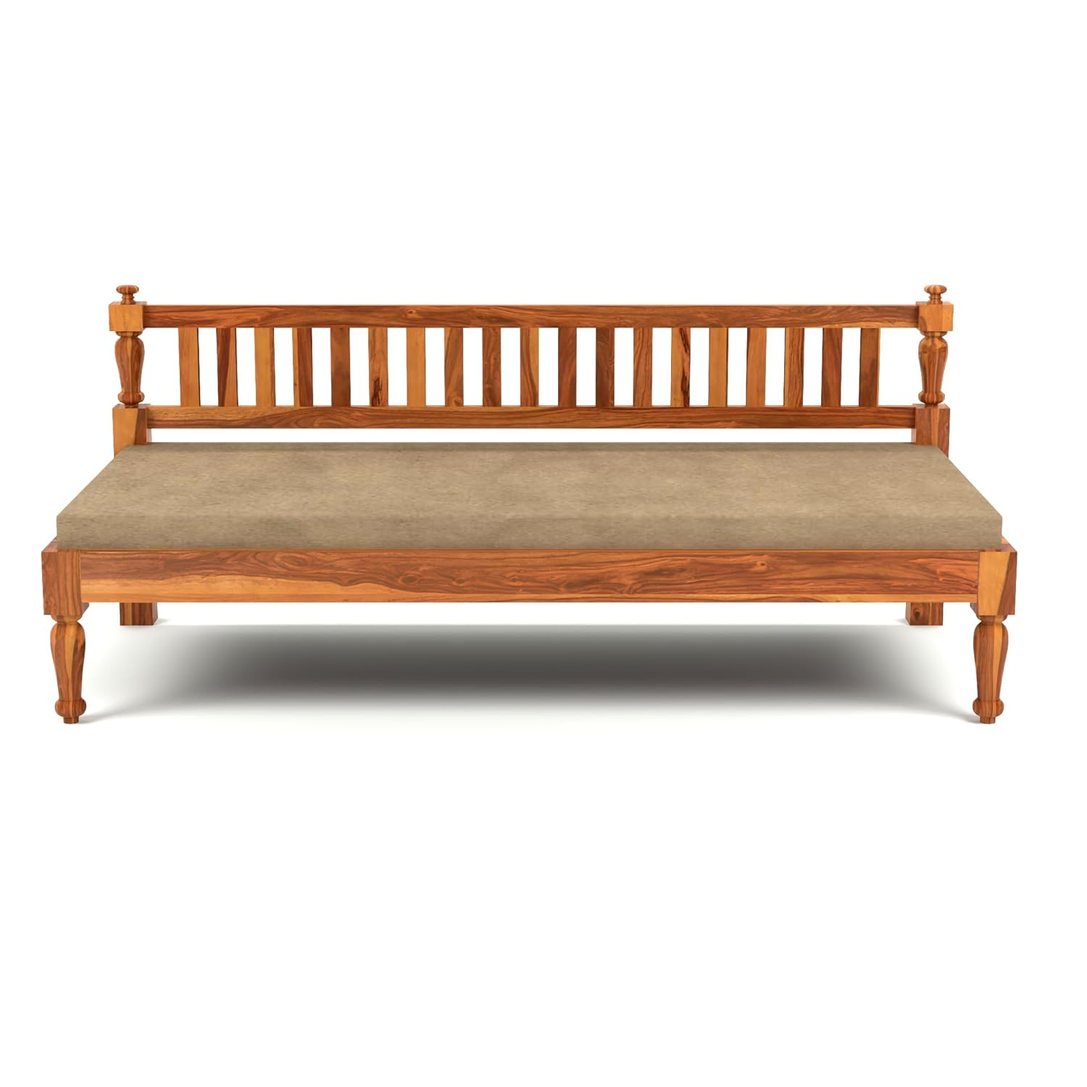3seatersofa: (43, 285, 1016, 722)
backrest: (109, 286, 952, 451)
base: (82, 549, 979, 601)
leg: (43, 541, 87, 722), (973, 541, 1015, 722), (120, 602, 157, 625), (906, 602, 942, 625)
seat: (57, 442, 1001, 549)
